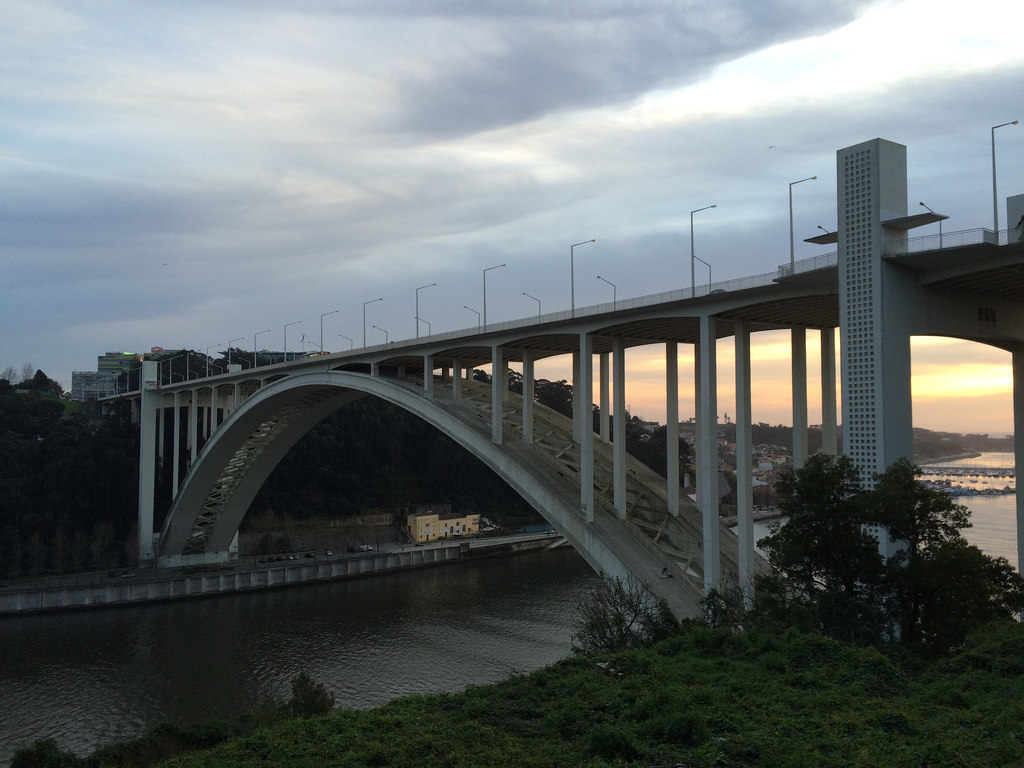arrabida: (86, 135, 1023, 644)
